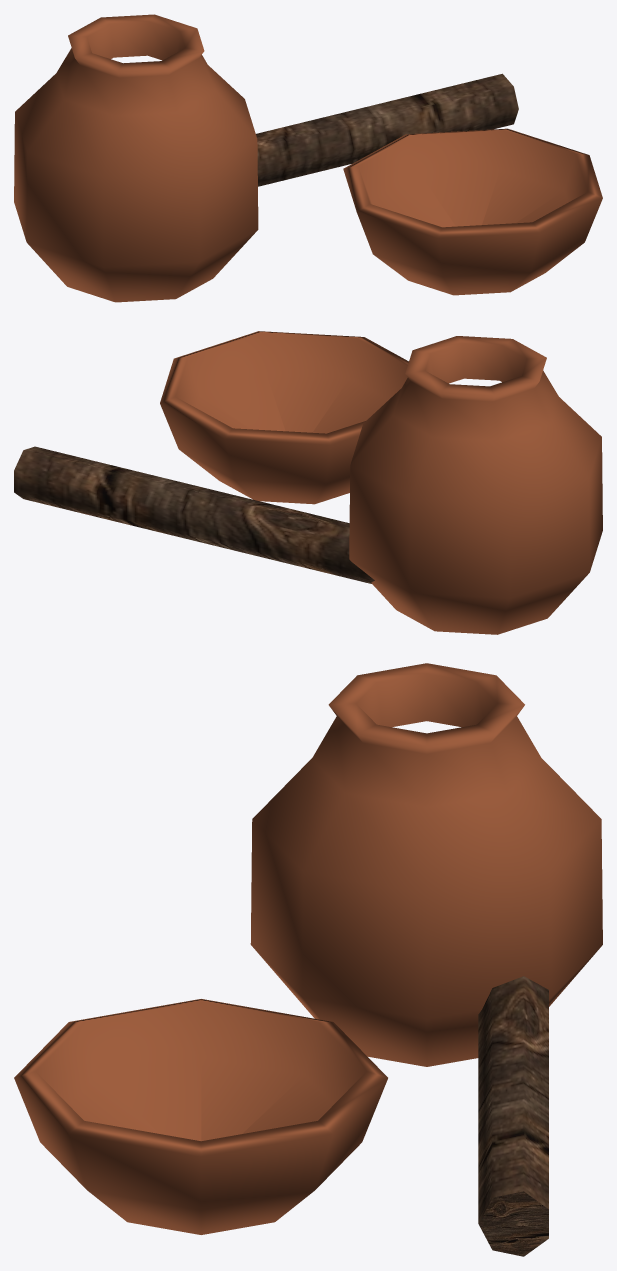
File: periodHearthKit.glb
3 views of the same model, one above another, from view 1: azimuth 30°, elevation 25°; view 2: azimuth 150°, elevation 25°; view 3: azimuth 270°, elevation 25° (orthographic). The views are drawn at different scales.
Parts seen in each view (by area): view 1: part_0, part_1; view 2: part_0, part_1; view 3: part_0, part_1.
Boxes of the visible parts, box(x1,y1,x2,y2) form: part_0: box(14, 14, 602, 302); part_1: box(256, 73, 518, 186); part_0: box(160, 331, 602, 634); part_1: box(14, 446, 374, 583); part_0: box(14, 663, 602, 1234); part_1: box(478, 976, 548, 1256).
Size of the model in its own units: 0.5092 by 0.2167 by 0.3653.
2 materials, 1 textured.
